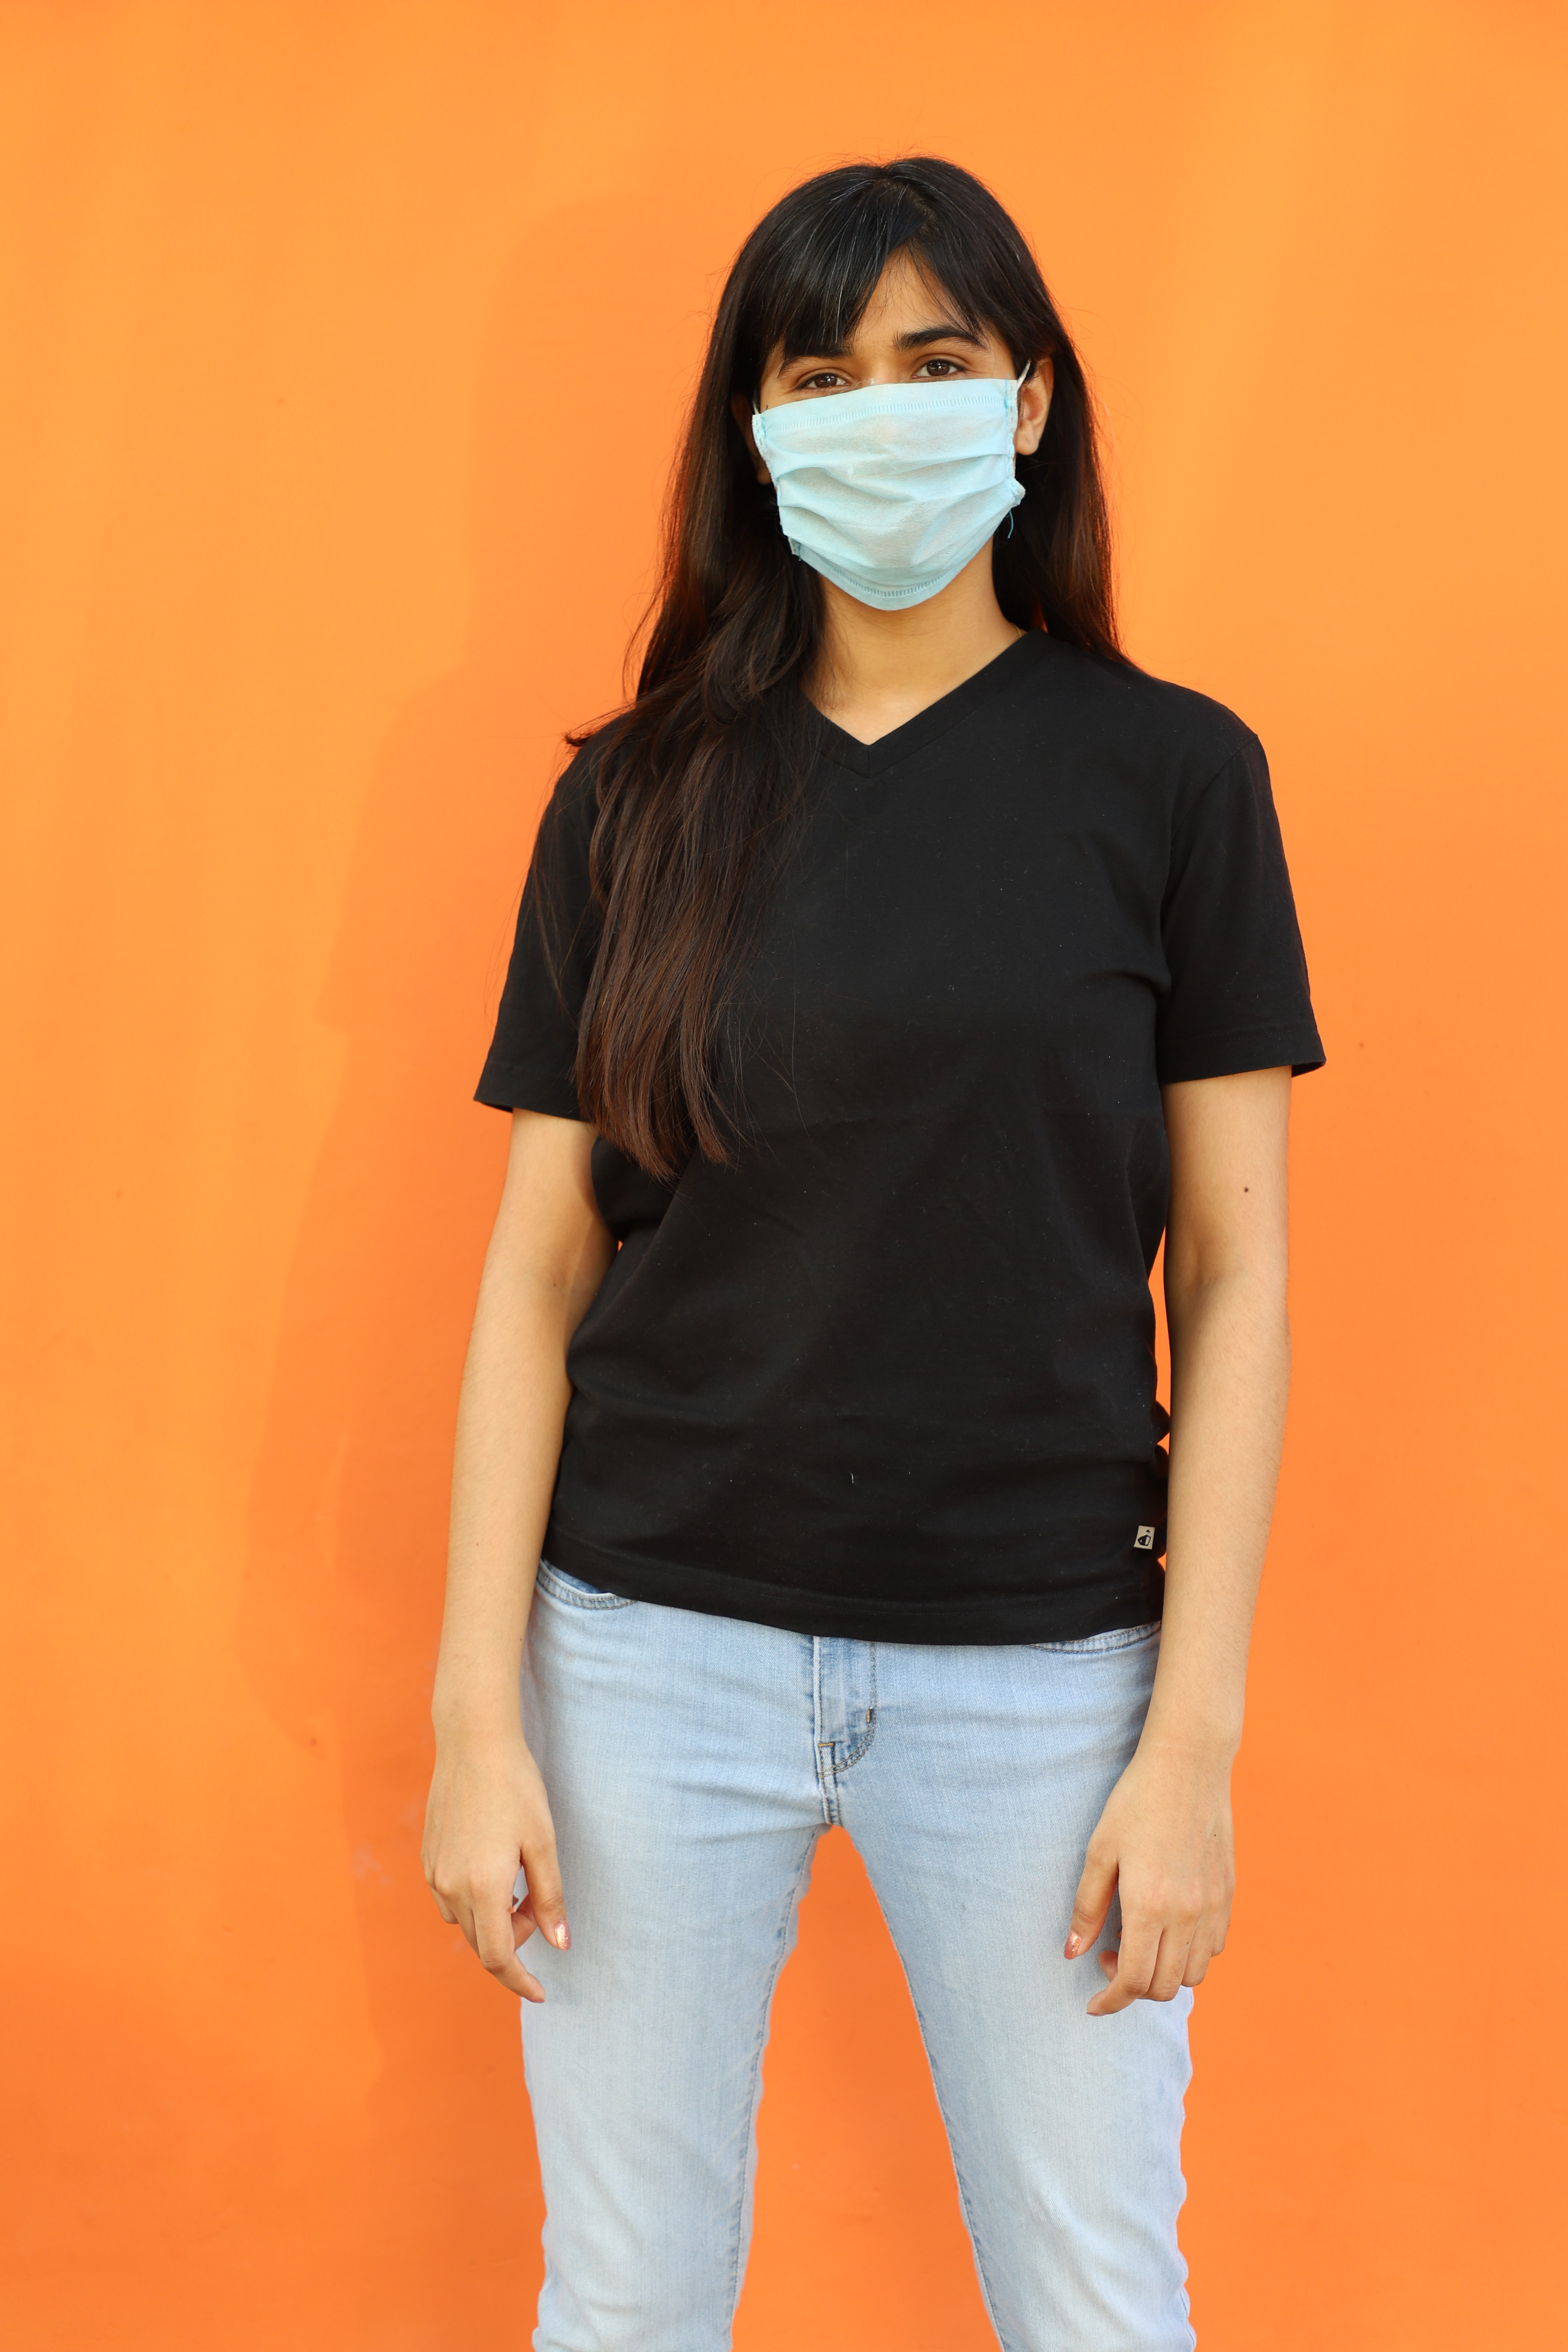mask: (743, 388, 1067, 625)
person: (342, 92, 1346, 2352)
